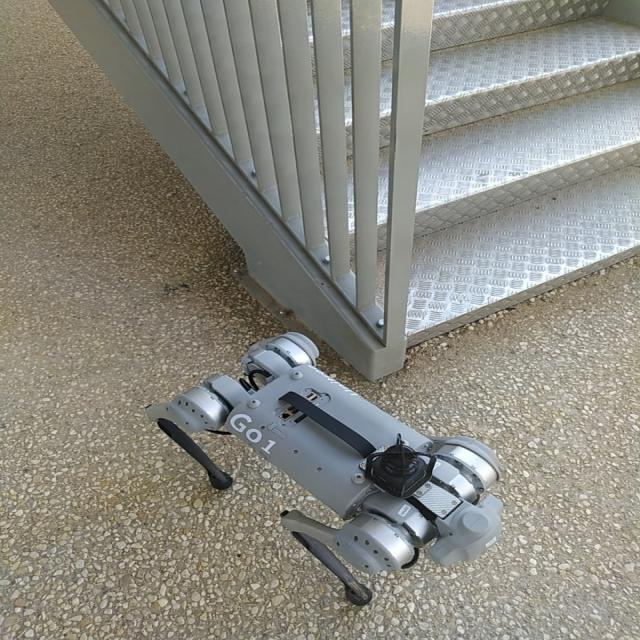unitree-go1-robot: (167, 338, 509, 608)
